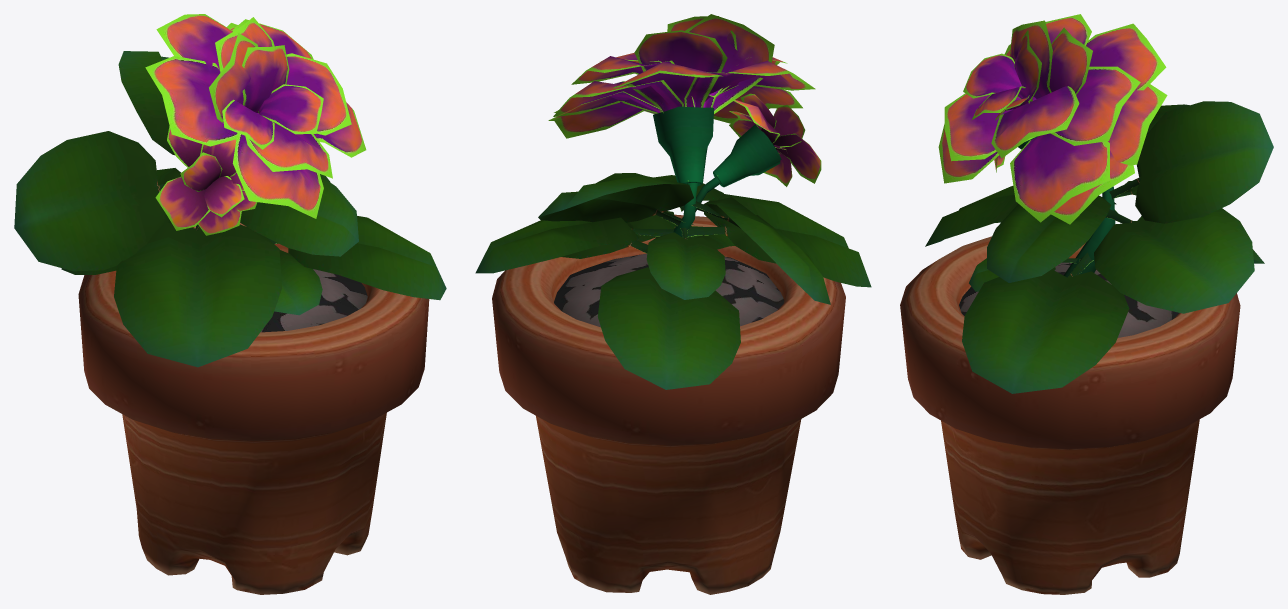
The model's file is gluden 2.fbx.
3 views of the same model, side by side, from view 1: azimuth 30°, elevation 25°; view 2: azimuth 150°, elevation 25°; view 3: azimuth 270°, elevation 25° (orthographic). The views are drawn at different scales.
Visible parts, largest first — view 1: GLUDEN 2; view 2: GLUDEN 2; view 3: GLUDEN 2.
Boxes of the visible parts, x1=… form: GLUDEN 2: x1=14, y1=14, x2=446, y2=594; GLUDEN 2: x1=475, y1=14, x2=871, y2=594; GLUDEN 2: x1=900, y1=14, x2=1273, y2=594.
Bounding box in the file's own units: 90.26 × 128 × 83.32.
1 material, 1 textured.
